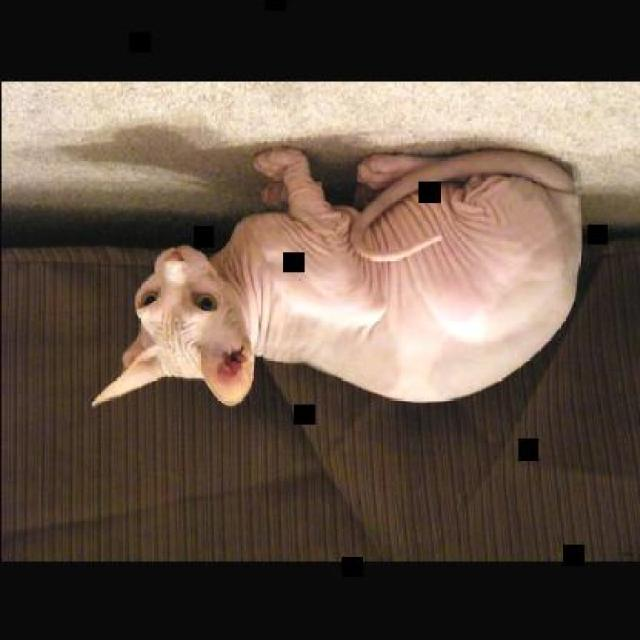unauthorized: (89, 142, 583, 409)
